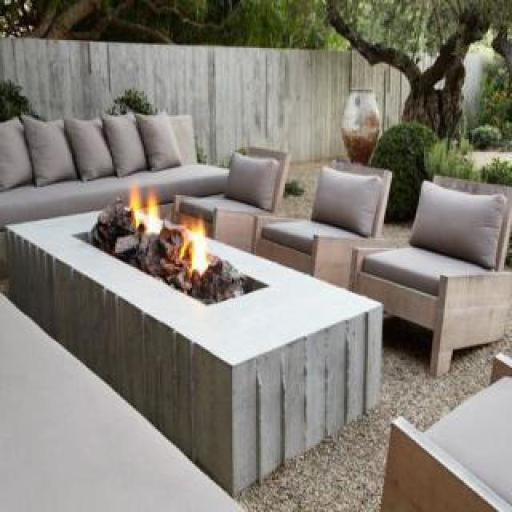smoke: (114, 178, 218, 282)
